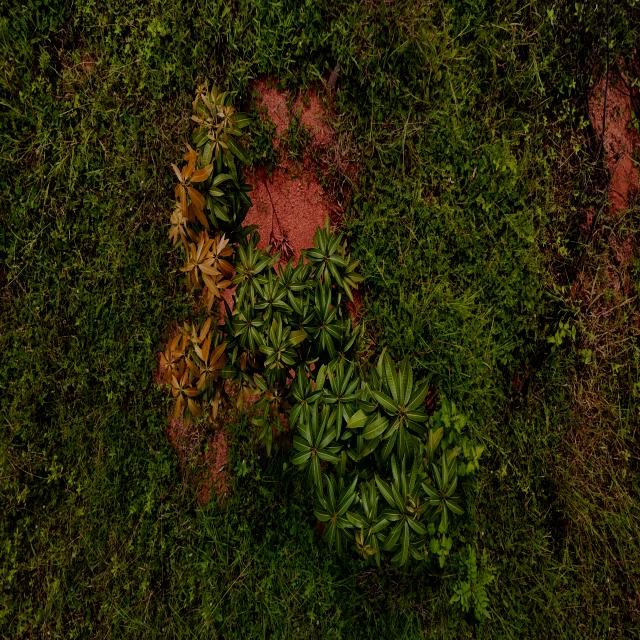mangoTree: (158, 71, 467, 578)
